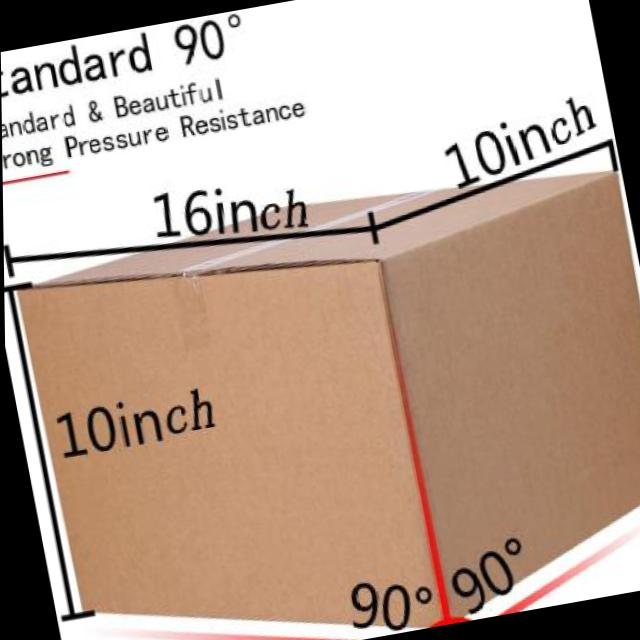box: (2, 138, 640, 640)
